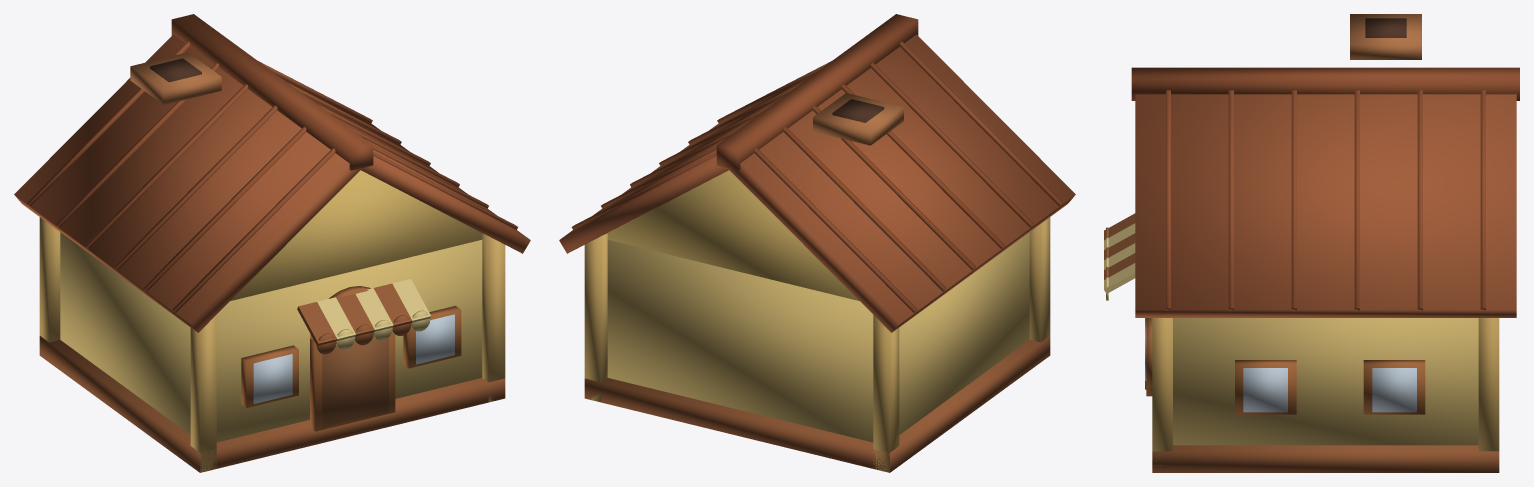
The model's file is bakery.glb.
The picture shows the model from 3 angles, left to right: view 1: azimuth 30°, elevation 25°; view 2: azimuth 150°, elevation 25°; view 3: azimuth 270°, elevation 25°; orthographic projection. The views are drawn at different scales.
Visible parts, largest first — view 1: bakery; view 2: bakery; view 3: bakery.
Part boxes in pixels (<box>): bakery: <box>14,14,530,472</box>; bakery: <box>559,14,1075,472</box>; bakery: <box>1104,14,1519,472</box>.
Size of the model in its own units: 2.5 by 2.12 by 2.42.
